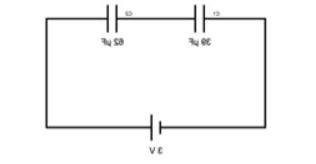Capacitor: (182, 0, 214, 34)
